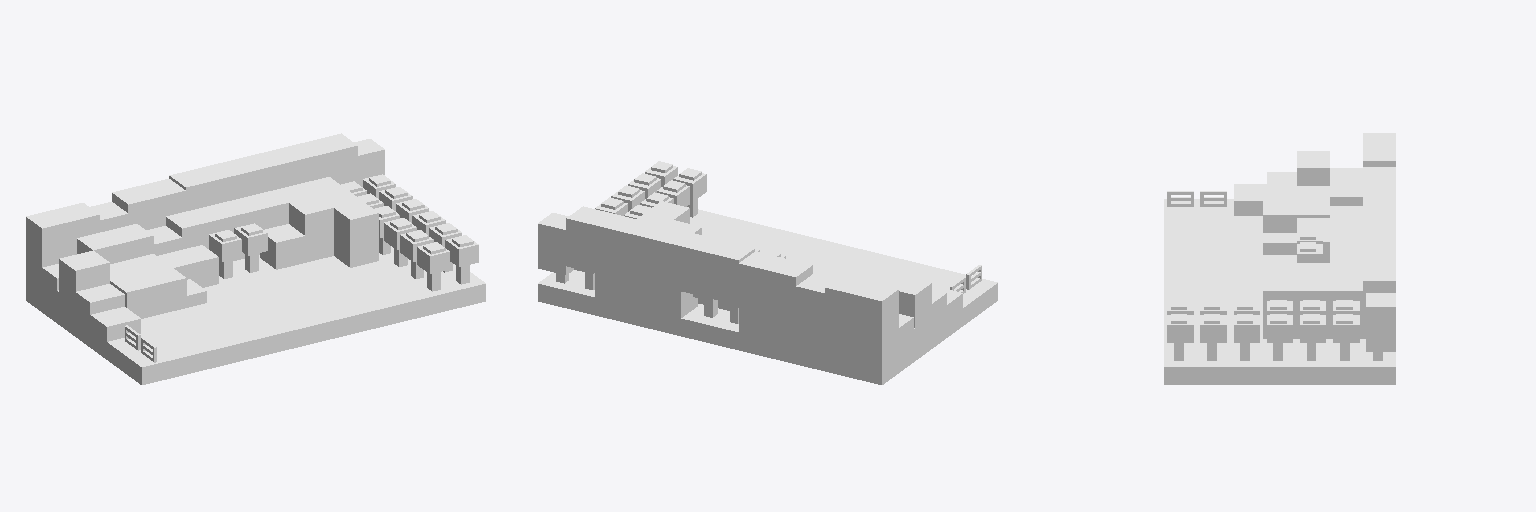
File: MAP2.obj
The picture shows the model from 3 angles: view 1: azimuth 30°, elevation 25°; view 2: azimuth 150°, elevation 25°; view 3: azimuth 270°, elevation 25°; orthographic projection.
Visible parts, largest first — view 1: MAP2; view 2: MAP2; view 3: MAP2.
Boxes of the visible parts, <box> form: MAP2: <box>26,133,485,384</box>; MAP2: <box>538,161,997,384</box>; MAP2: <box>1164,133,1395,384</box>.
Size of the model in its own units: 120 by 30 by 70.